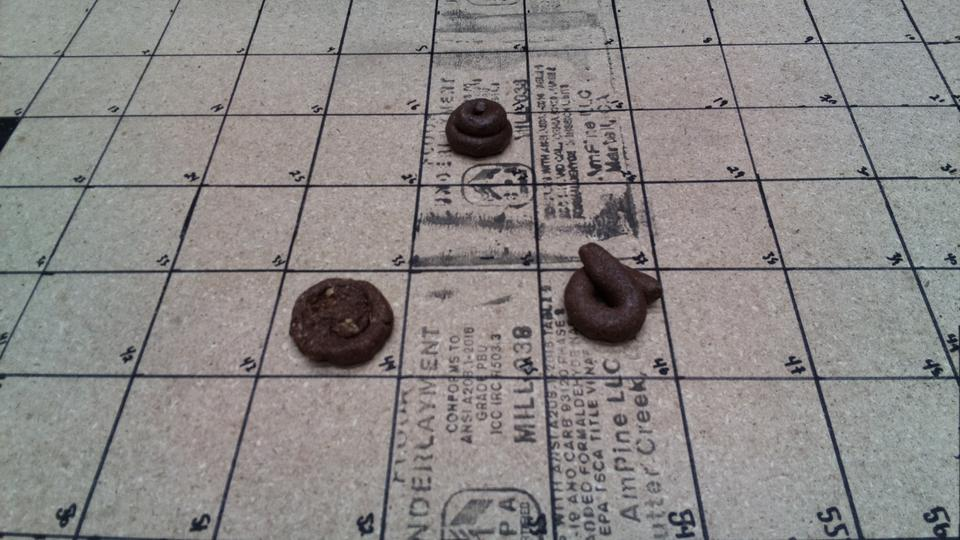poop: (495, 334, 616, 443), (94, 228, 202, 316), (519, 102, 590, 171)
